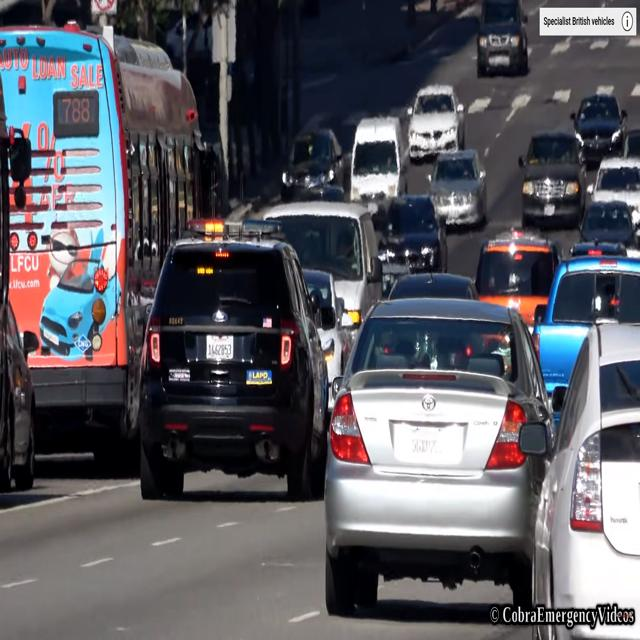emergency-vehicles: (135, 216, 333, 504)
